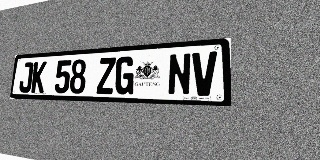5: (54, 60, 72, 93)
8: (69, 59, 87, 94)
G: (114, 56, 135, 95)
J: (18, 62, 34, 93)
K: (31, 61, 47, 93)
N: (167, 53, 191, 96)
V: (192, 51, 217, 96)
Z: (96, 57, 116, 94)
